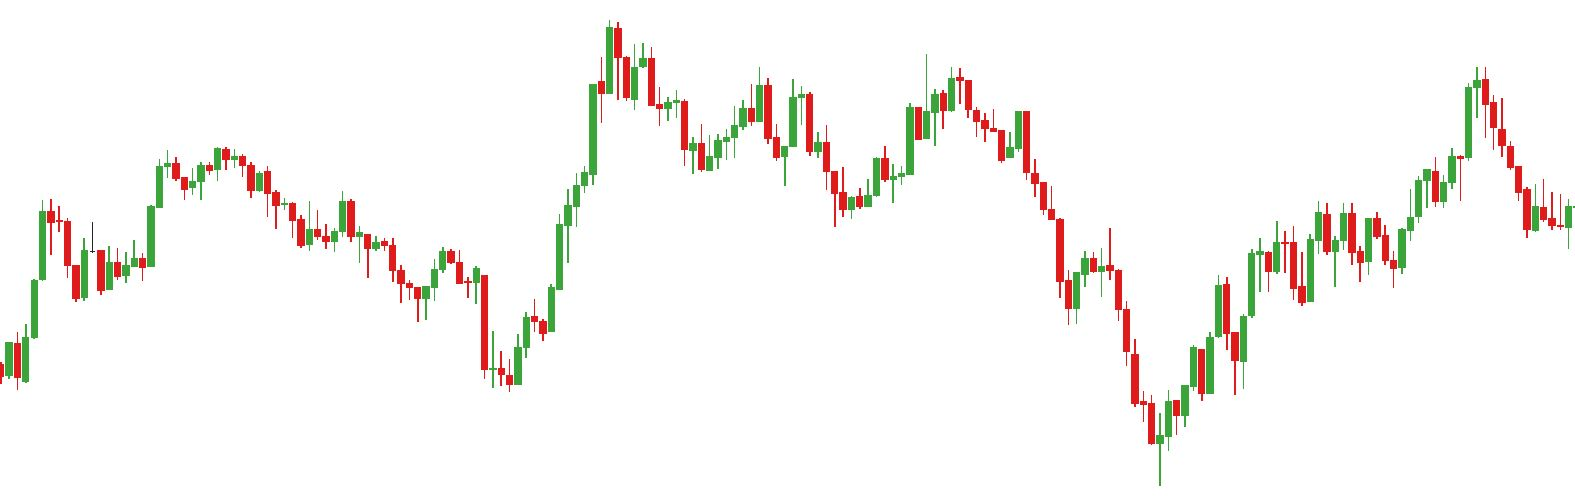sell: (306, 188, 357, 240)
